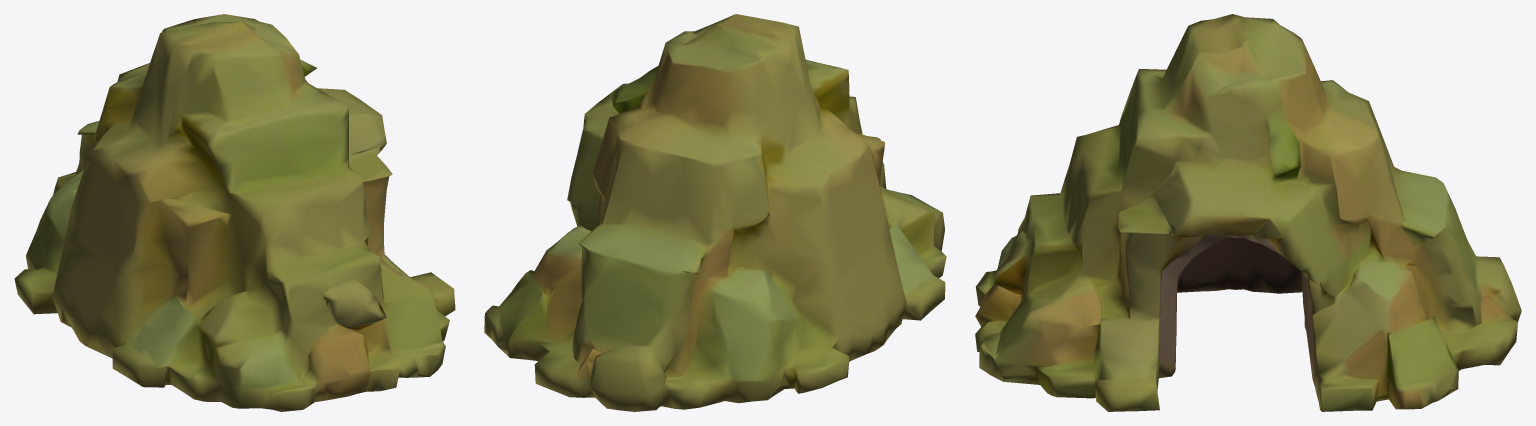
File: cave-entrance.glb
3 views of the same model, side by side, from view 1: azimuth 30°, elevation 25°; view 2: azimuth 150°, elevation 25°; view 3: azimuth 270°, elevation 25° (orthographic). The views are drawn at different scales.
Parts seen in each view (by area): view 1: tripo_node_aaf3c31f-2863-45c1-854c-0a105d5a20c4; view 2: tripo_node_aaf3c31f-2863-45c1-854c-0a105d5a20c4; view 3: tripo_node_aaf3c31f-2863-45c1-854c-0a105d5a20c4.
Part boxes in pixels (x1,y1,x2,y2): tripo_node_aaf3c31f-2863-45c1-854c-0a105d5a20c4: [14, 14, 455, 411]; tripo_node_aaf3c31f-2863-45c1-854c-0a105d5a20c4: [484, 14, 946, 411]; tripo_node_aaf3c31f-2863-45c1-854c-0a105d5a20c4: [975, 14, 1521, 411].
Size of the model in its own units: 0.7051 by 0.5982 by 1.
1 material, 1 textured.
